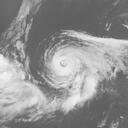cyclone: (42, 29, 104, 91)
